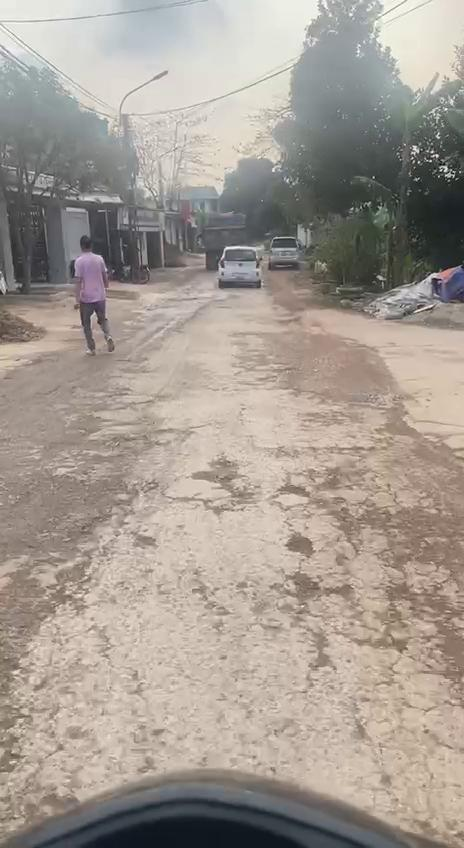pothole: (385, 578, 464, 668), (192, 456, 253, 509), (293, 569, 358, 608), (283, 534, 316, 560), (278, 482, 309, 499)
